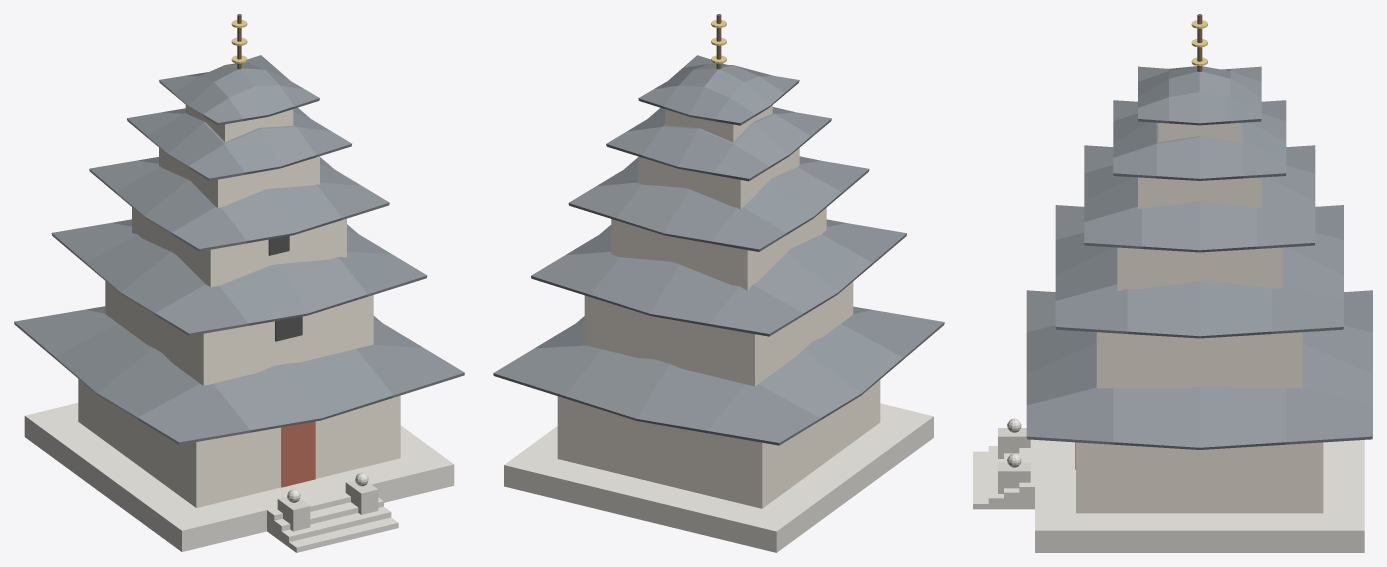
File: Temple_EastAsia.fbx
3 renders of one model, left to right at view 1: azimuth 30°, elevation 25°; view 2: azimuth 150°, elevation 25°; view 3: azimuth 270°, elevation 25°, orthographic. The views are drawn at different scales.
Visible parts, largest first — view 1: Temple_EastAsia_Mesh; view 2: Temple_EastAsia_Mesh; view 3: Temple_EastAsia_Mesh.
Boxes of the visible parts, x1,y1,x2,y2 form: Temple_EastAsia_Mesh: (14,14,464,552); Temple_EastAsia_Mesh: (493,14,944,552); Temple_EastAsia_Mesh: (973,14,1372,552).
Size of the model in its own units: 8.4 by 12.54 by 9.7.
